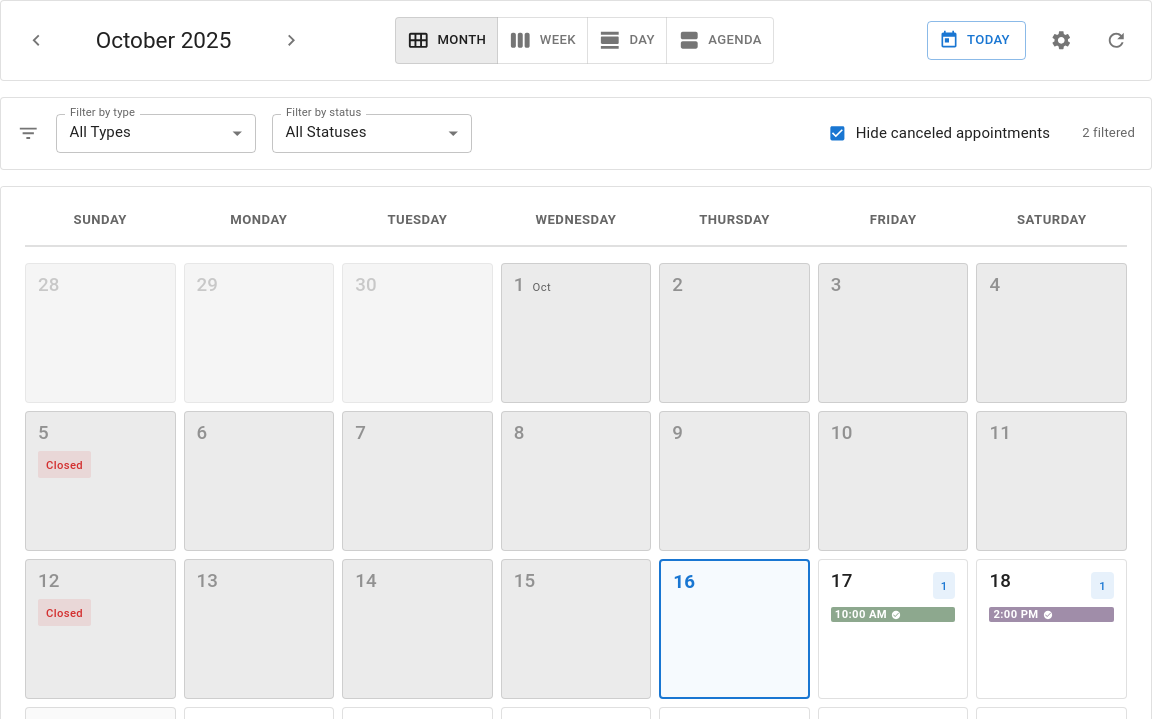
it: CalendarDesktop › allows filtering appointments by type
The image size is (1152, 719).
Press the mouse on the dropdown named "filter by type" at [100, 132], box [70,124,131,142]
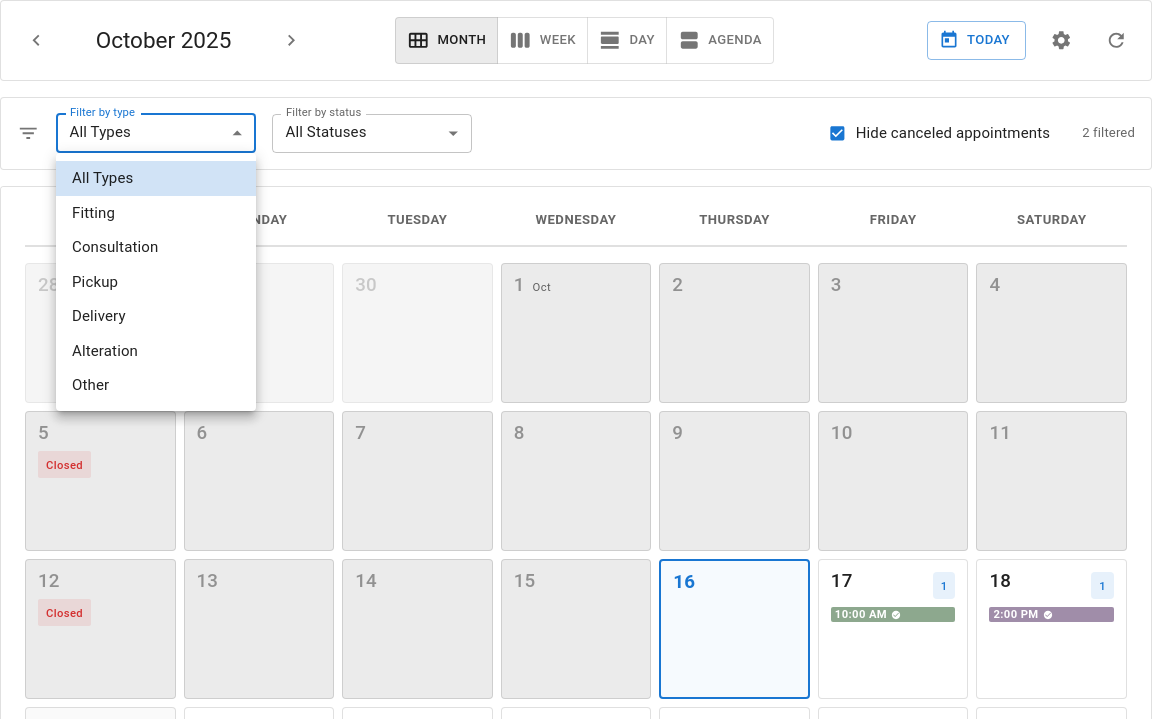
Click the option "Fitting" at [94, 212], box [72,204,115,222]
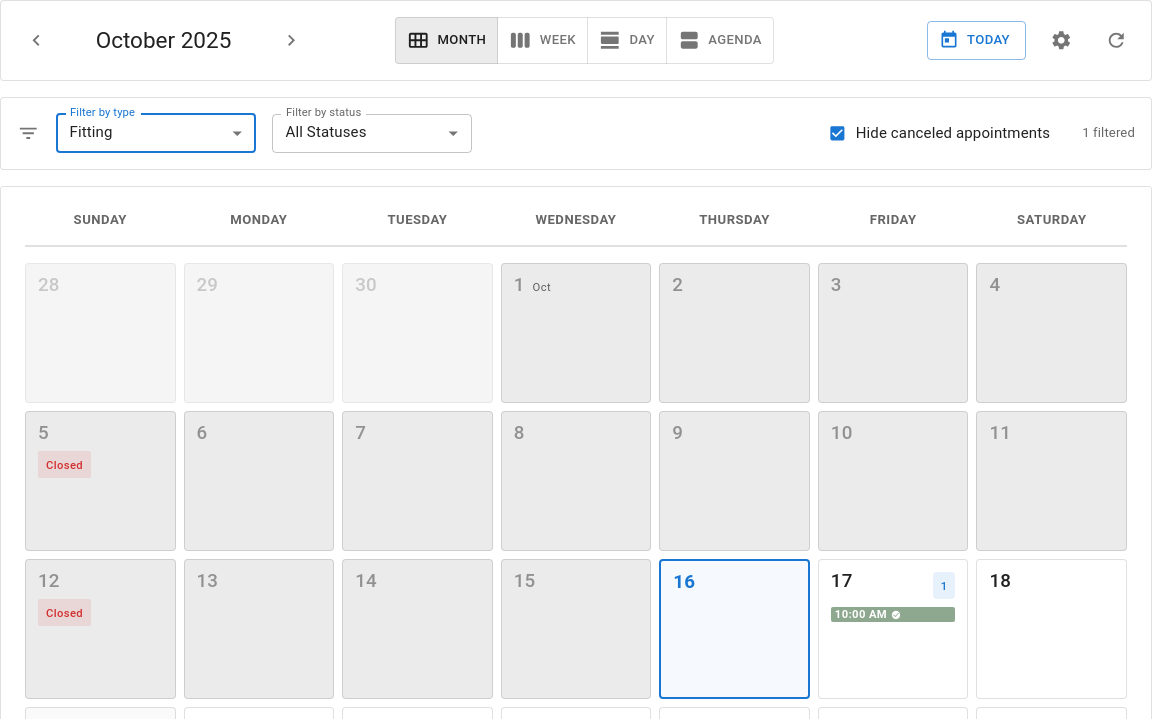
Now the text "1 filtered" is shown, box [1082,124,1135,143]
